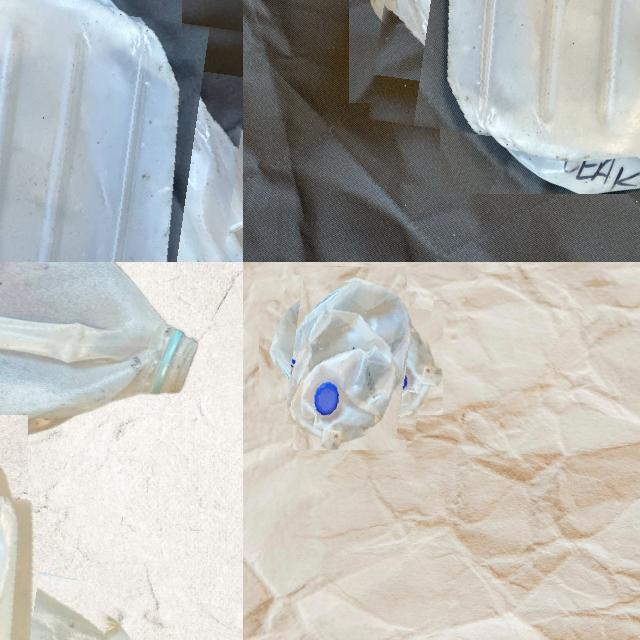milk-jug: (0, 0, 240, 262), (380, 0, 640, 161), (0, 262, 198, 451), (270, 278, 429, 437)
